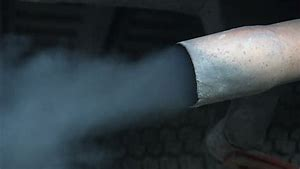smoke: (1, 40, 183, 169)
